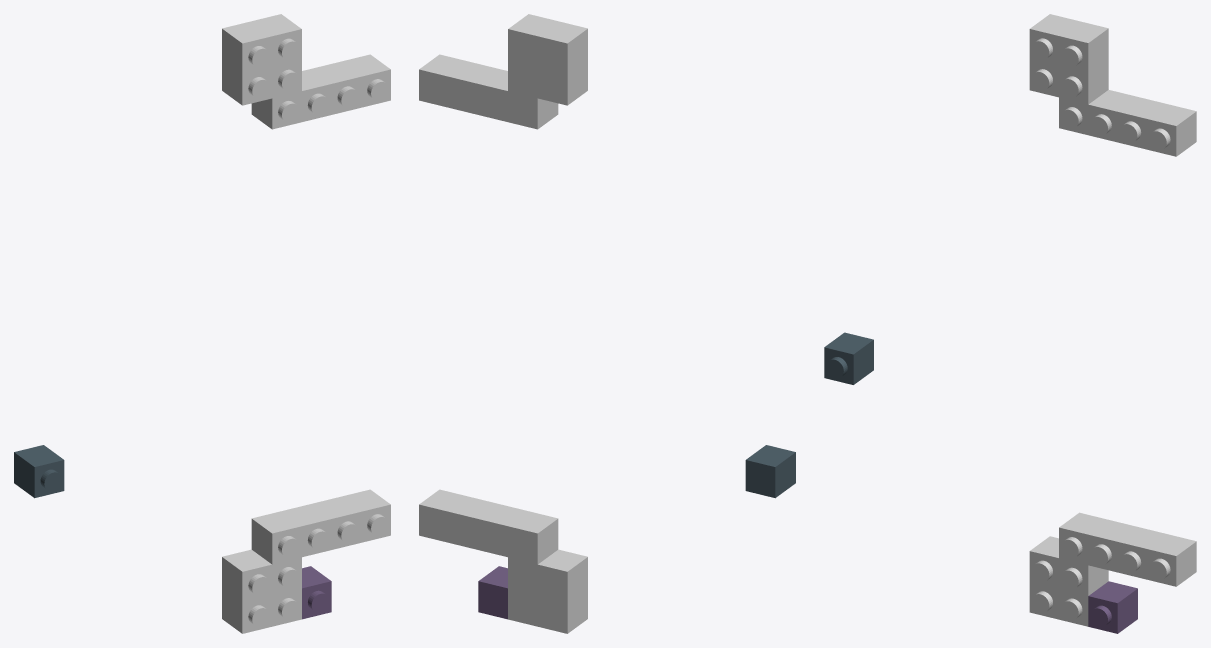
Rendered from full.glb.
3 renders of one model, left to right at view 1: azimuth 30°, elevation 25°; view 2: azimuth 150°, elevation 25°; view 3: azimuth 330°, elevation 25°, orthographic.
Parts seen in each view (by area): view 1: world; view 2: world; view 3: world.
Part boxes in pixels (<box>): world: <box>14,14,390,633</box>; world: <box>419,14,795,633</box>; world: <box>824,14,1196,633</box>.
Size of the model in its own units: 96 by 152 by 11.4.
